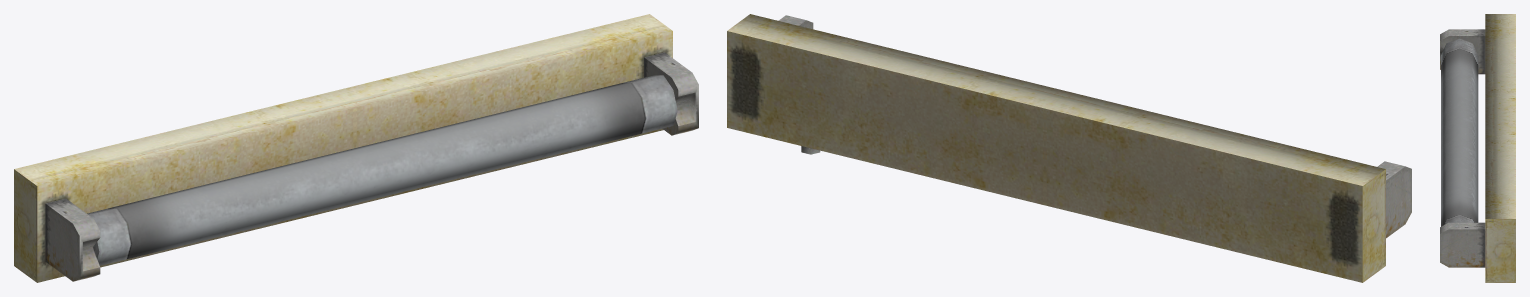
Rendered from sm35_009_fluorescentlight01.fbx.
3 views of the same model, side by side, from view 1: azimuth 30°, elevation 25°; view 2: azimuth 150°, elevation 25°; view 3: azimuth 270°, elevation 25° (orthographic). The views are drawn at different scales.
Parts seen in each view (by area): view 1: LOD_1_Group_0_Sub_2__sm35_009_FluorescentLight01A_A_Mat, LOD_1_Group_0_Sub_1__sm35_009_FluorescentLight01A_B_Mat; view 2: LOD_1_Group_0_Sub_2__sm35_009_FluorescentLight01A_A_Mat; view 3: LOD_1_Group_0_Sub_2__sm35_009_FluorescentLight01A_A_Mat, LOD_1_Group_0_Sub_1__sm35_009_FluorescentLight01A_B_Mat.
Part boxes in pixels (box(x1,y1,x2,y2)): LOD_1_Group_0_Sub_2__sm35_009_FluorescentLight01A_A_Mat: box(14, 14, 698, 282); LOD_1_Group_0_Sub_1__sm35_009_FluorescentLight01A_B_Mat: box(87, 75, 677, 265); LOD_1_Group_0_Sub_2__sm35_009_FluorescentLight01A_A_Mat: box(727, 14, 1411, 282); LOD_1_Group_0_Sub_2__sm35_009_FluorescentLight01A_A_Mat: box(1440, 14, 1515, 282); LOD_1_Group_0_Sub_1__sm35_009_FluorescentLight01A_B_Mat: box(1441, 38, 1478, 226).
Size of the model in its own units: 0.8767 by 0.1391 by 0.137.
